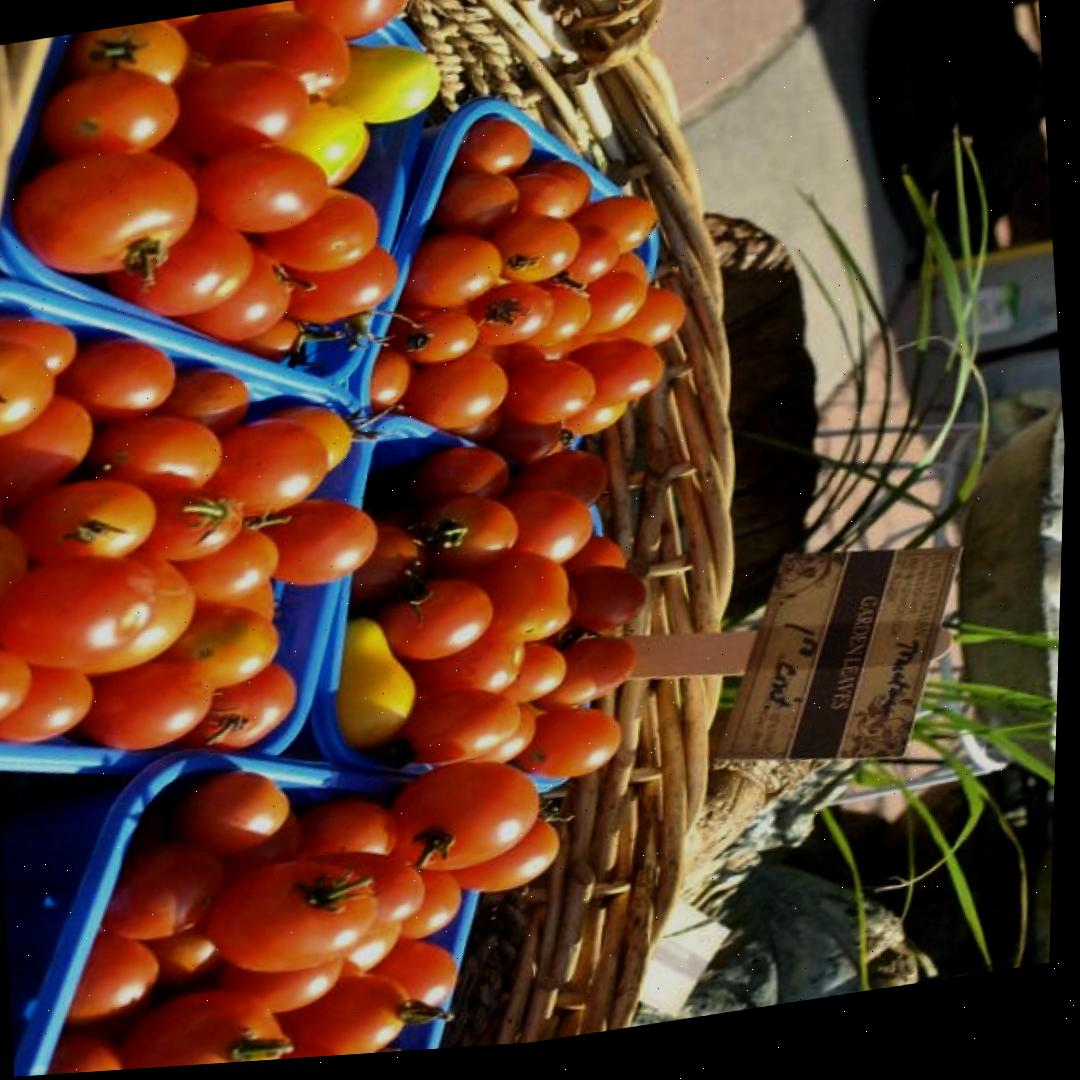matang: (9, 134, 204, 285), (198, 847, 387, 984), (0, 543, 165, 679), (380, 748, 548, 880), (107, 974, 295, 1071), (193, 136, 335, 243), (473, 541, 576, 650), (477, 205, 586, 291)
